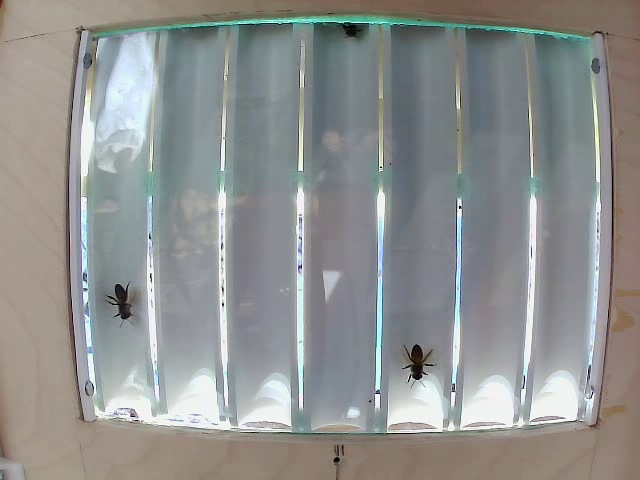bee: (105, 281, 154, 339), (400, 332, 444, 382)
